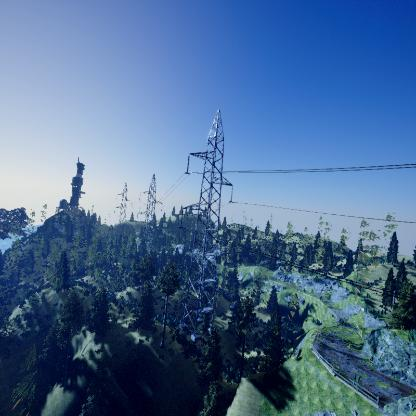tower: (177, 105, 239, 341), (135, 171, 168, 233)
